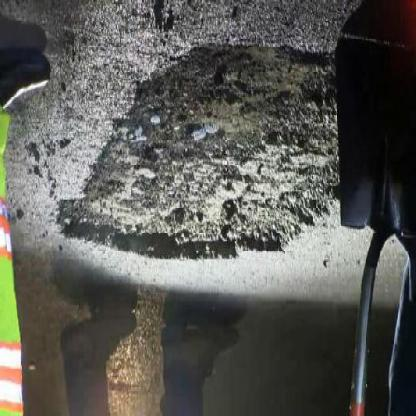pothole: (55, 47, 365, 266)
